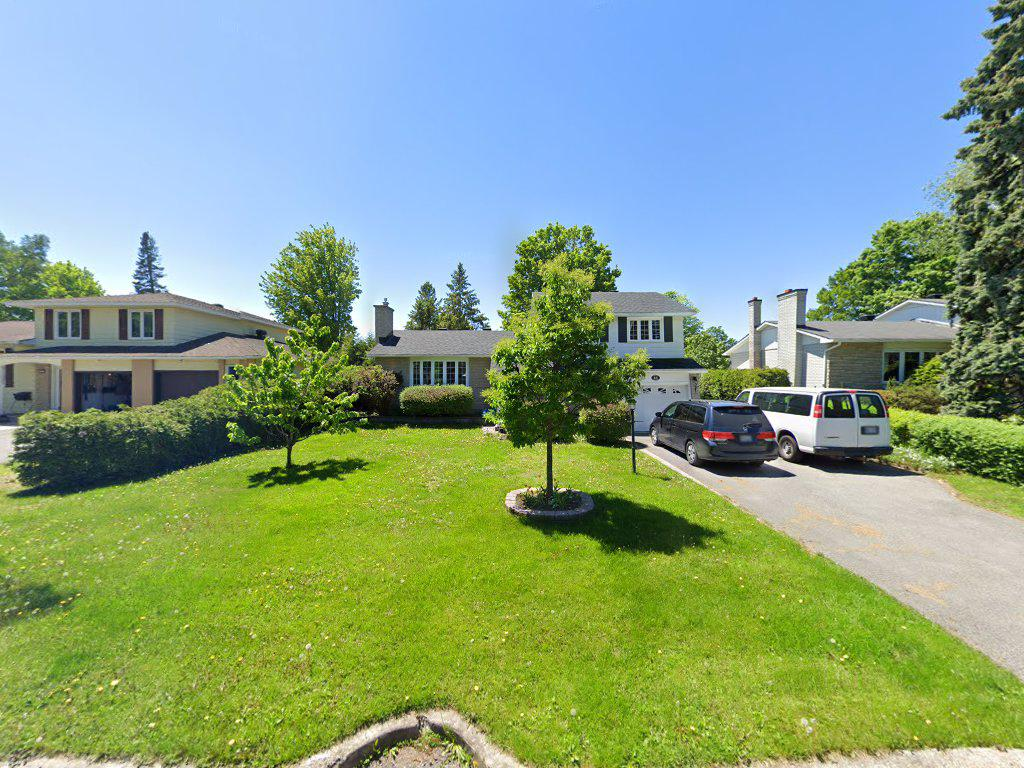trunk: (544, 437, 556, 511)
